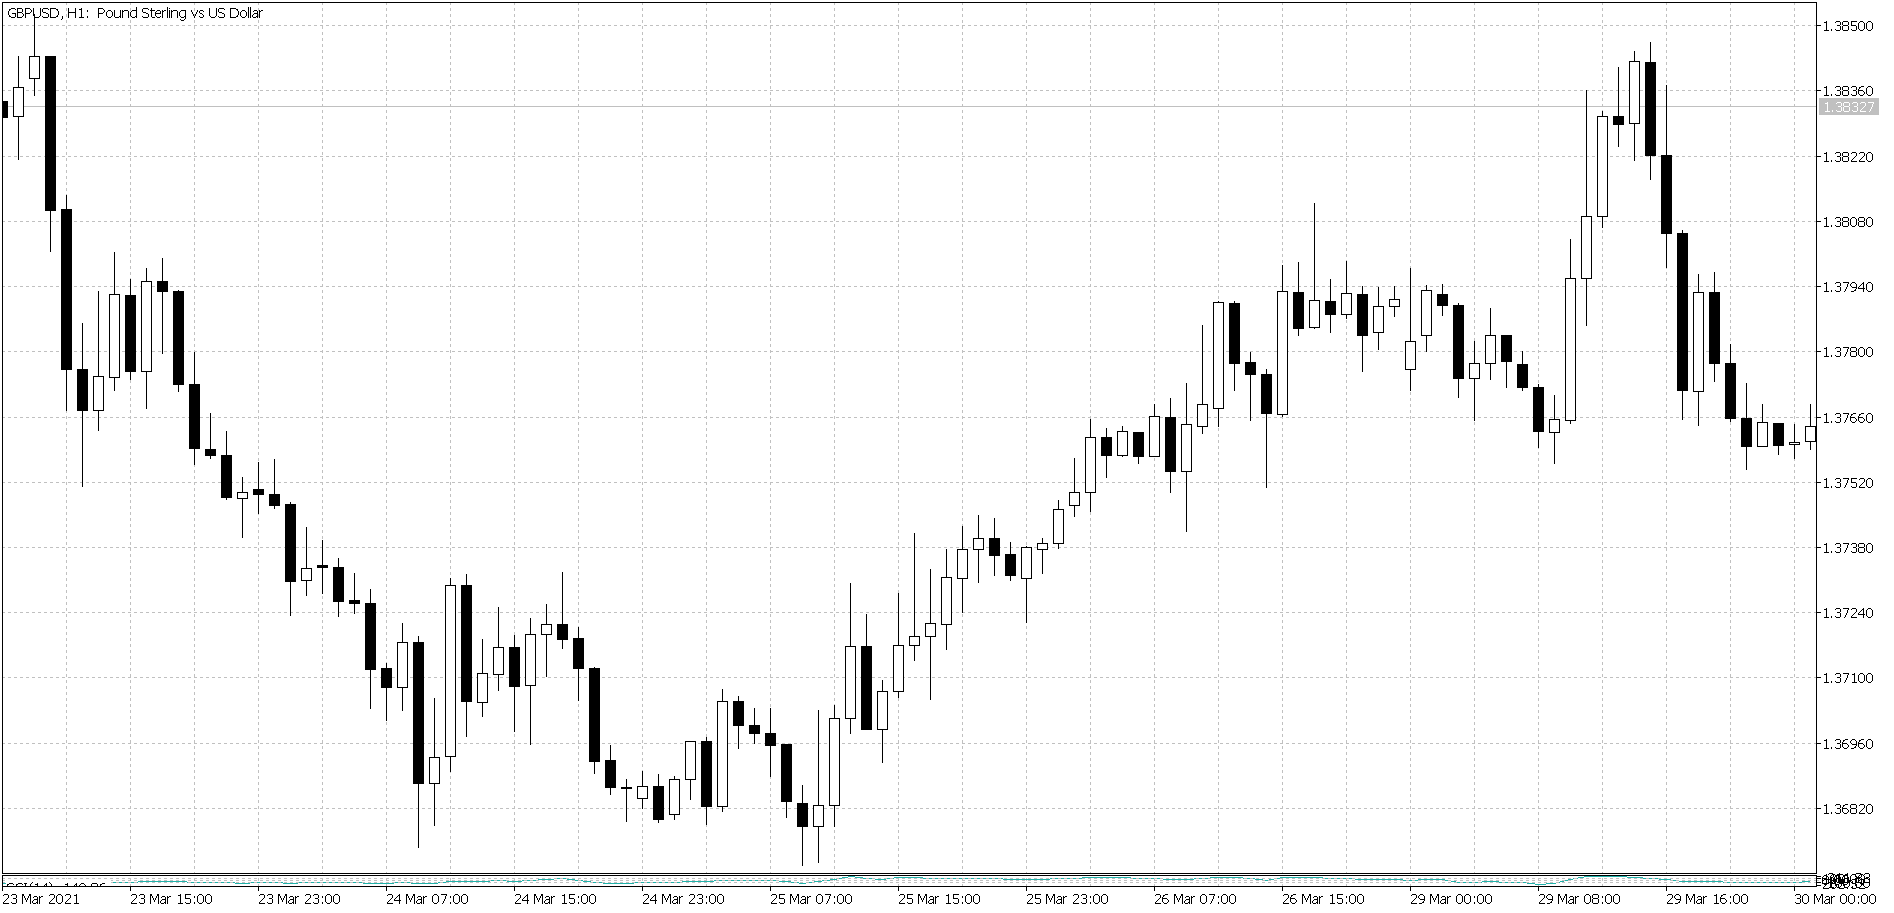bullishEngulfing: (1257, 264, 1290, 477)
hammer: (1018, 536, 1038, 630)
shootingStar: (553, 559, 570, 645)
